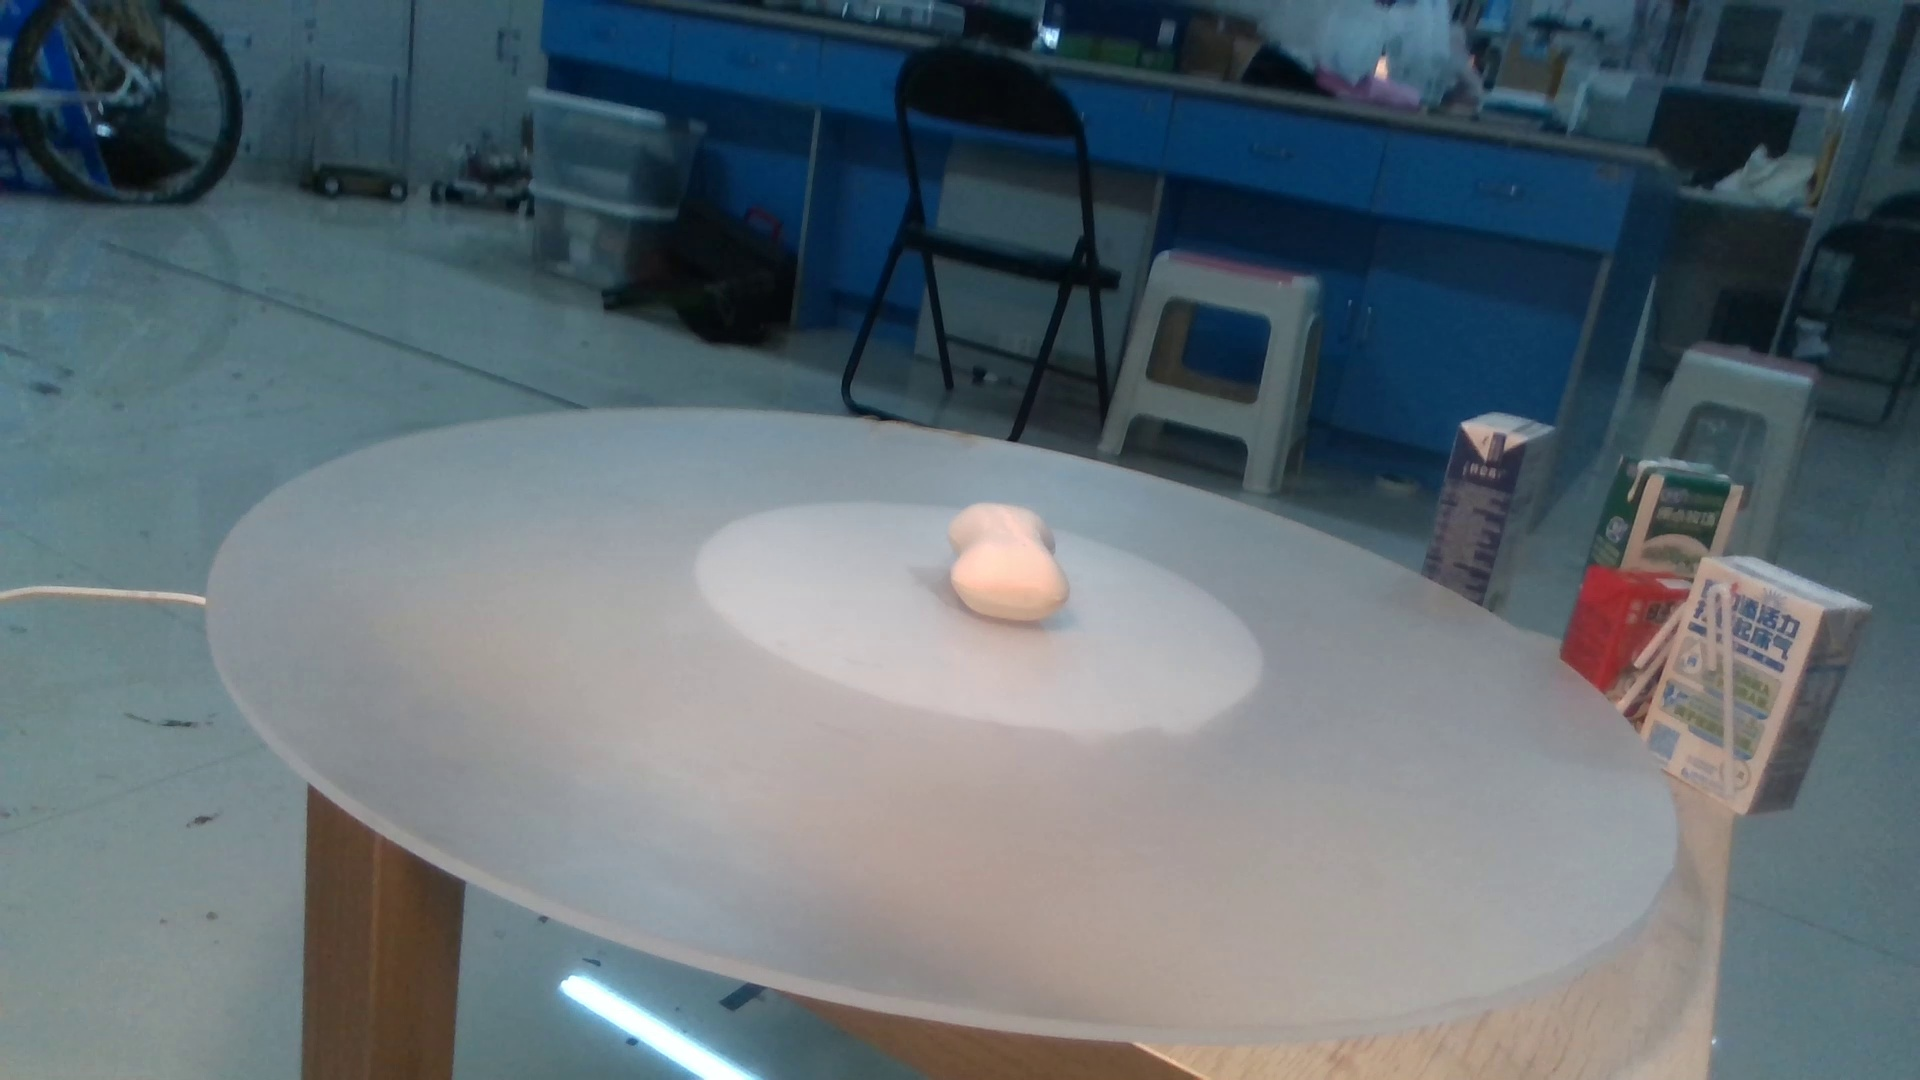CA003_1: (911, 483, 1112, 636)
